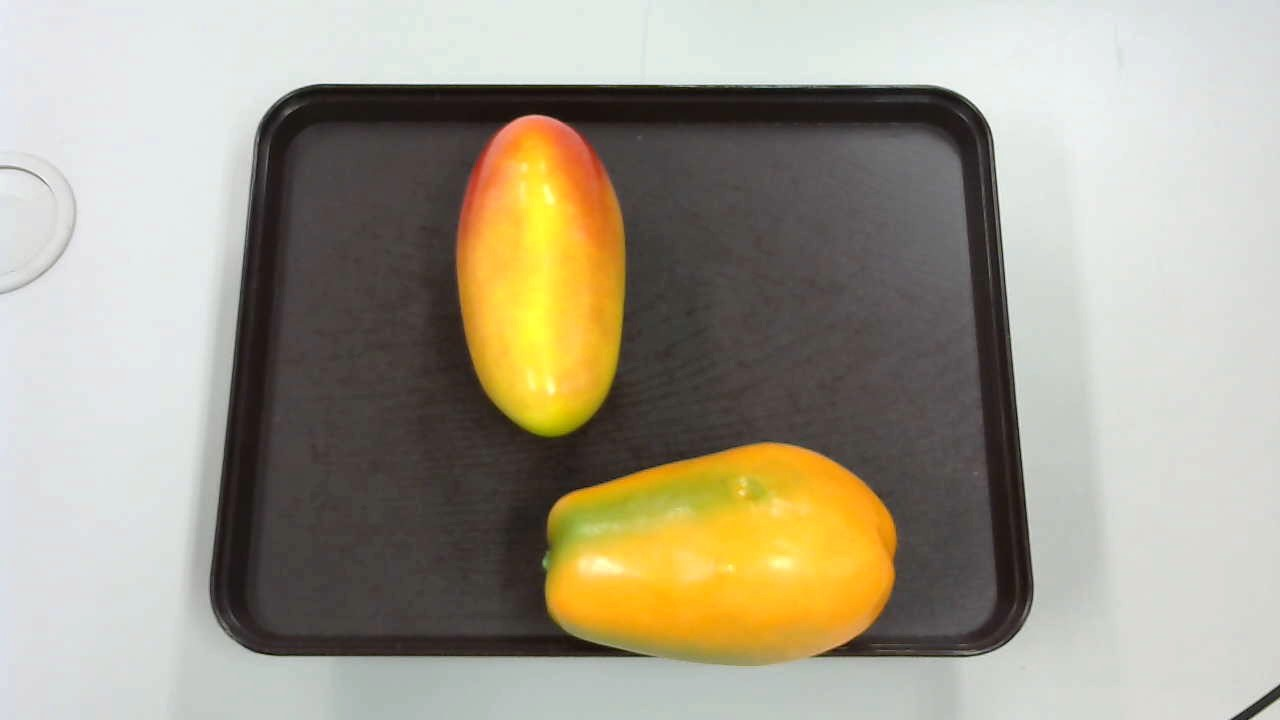papya: (540, 441, 902, 662)
red mango: (452, 116, 631, 441)
